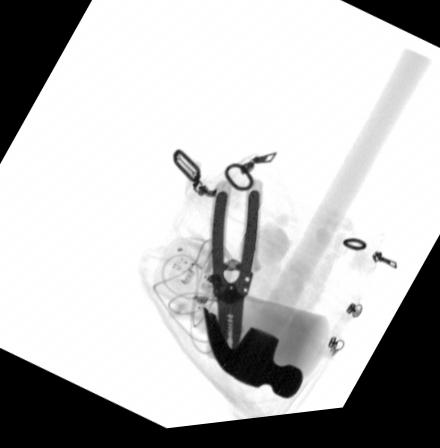Hammer: (202, 56, 433, 406)
Pliers: (200, 185, 264, 355)
